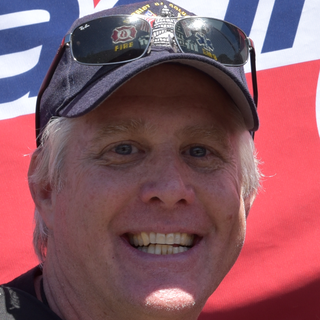eye: (99, 140, 147, 164), (176, 141, 222, 165)
